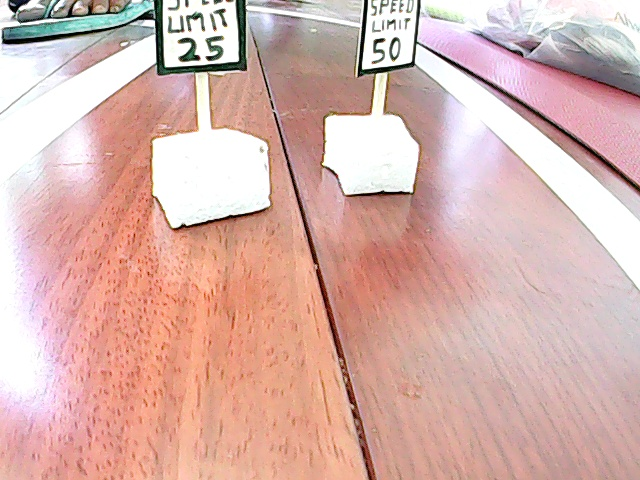speed_25: (133, 1, 281, 211)
speed_50: (331, 1, 432, 194)
